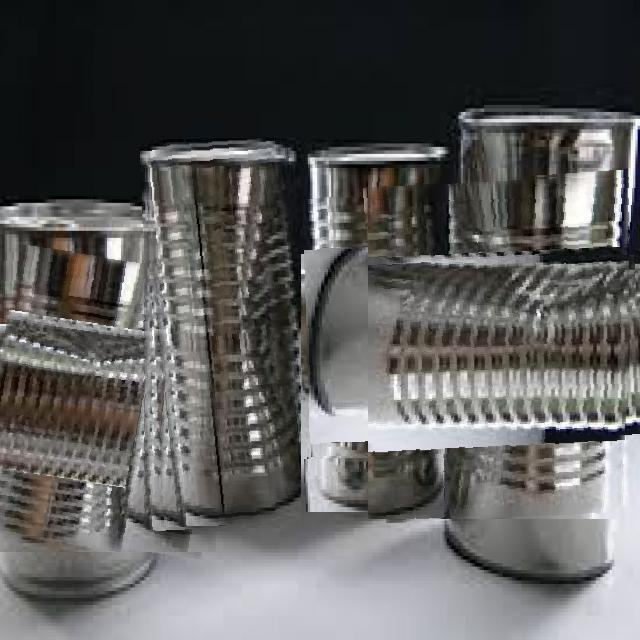recyclable: (368, 173, 640, 519), (0, 251, 231, 552), (248, 197, 509, 458), (144, 138, 301, 527)
